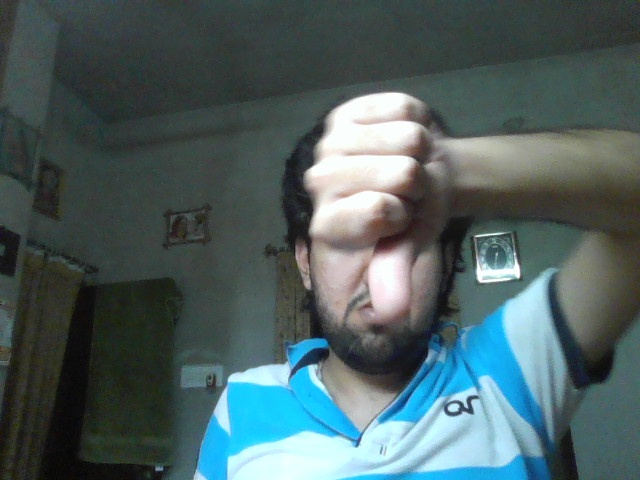NotOk: (309, 93, 449, 322)
